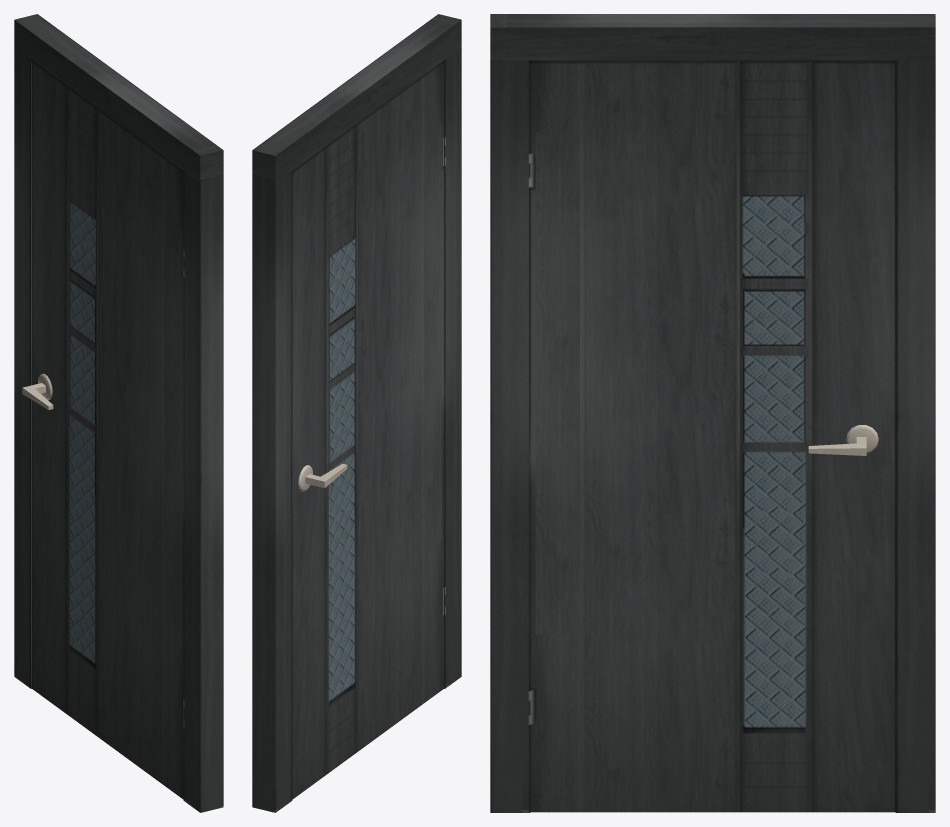
Rendered from Door_G.FBX.
3 renders of one model, left to right at view 1: azimuth 30°, elevation 25°; view 2: azimuth 150°, elevation 25°; view 3: azimuth 270°, elevation 25°, orthographic. The views are drawn at different scales.
Visible parts, largest first — view 1: Door_G, Door_G1; view 2: Door_G, Door_G1; view 3: Door_G, Door_G1.
Boxes of the visible parts, box(x1,y1,x2,y2) form: Door_G: box(22, 62, 183, 799); Door_G1: box(14, 14, 223, 812); Door_G: box(292, 62, 443, 799); Door_G1: box(252, 14, 461, 812); Door_G: box(530, 62, 895, 812); Door_G1: box(490, 14, 935, 812).
Bounding box in the file's own units: 10.71 × 104 × 53.51.
